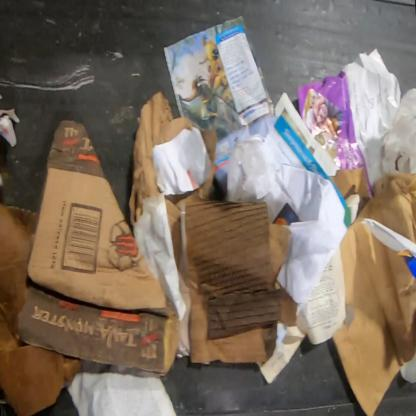cardboard: (18, 120, 178, 376), (176, 200, 298, 364), (0, 203, 86, 415), (128, 90, 218, 276), (332, 215, 415, 415), (357, 172, 415, 245), (329, 168, 370, 215)
soft_plastic: (226, 133, 288, 225)
